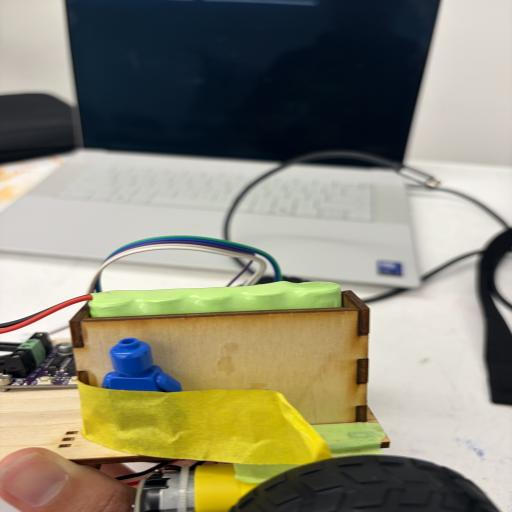Blue-Lego: (102, 338, 182, 392)
